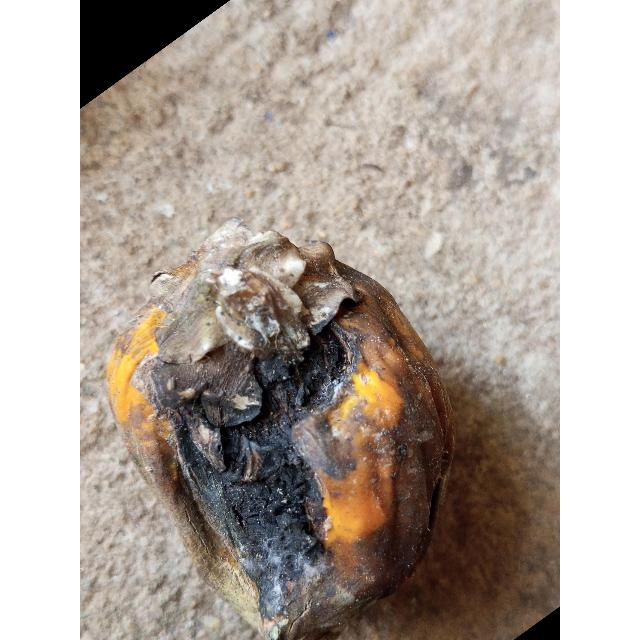damaged: (107, 219, 454, 640)
